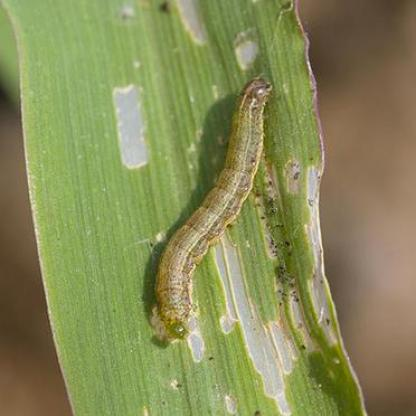armyworm: (154, 77, 274, 346)
